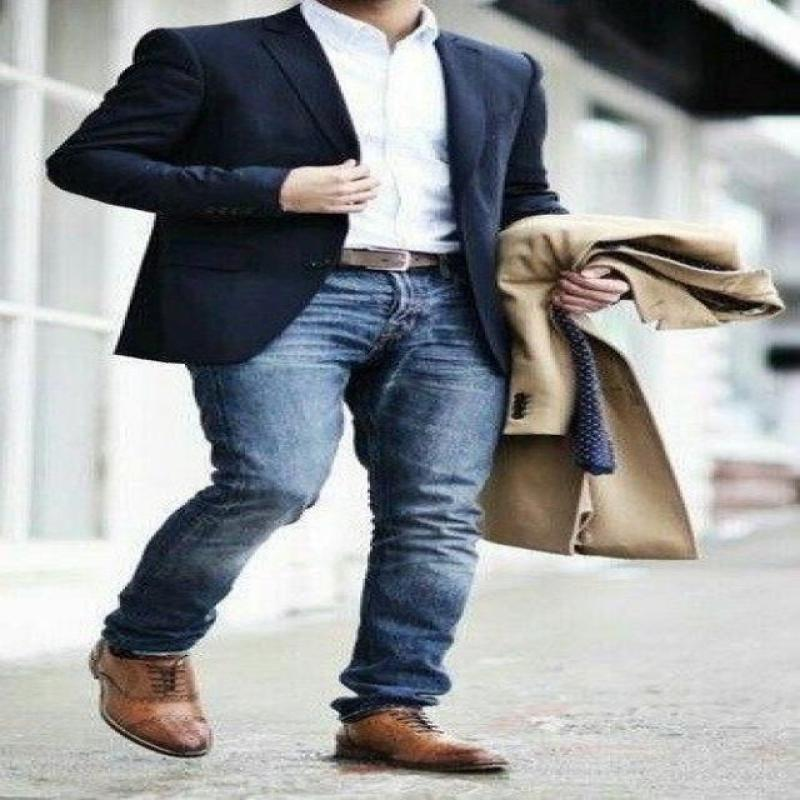jacket: (37, 3, 574, 377)
short sleeve shirt: (300, 0, 450, 258)
trousers: (97, 251, 514, 716)
